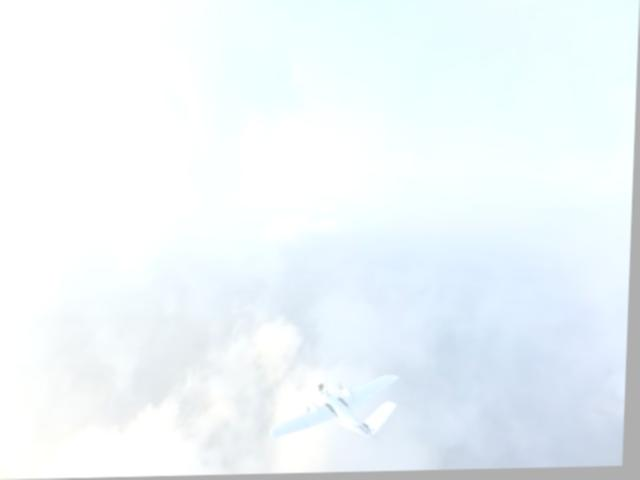uav: (268, 371, 402, 446)
